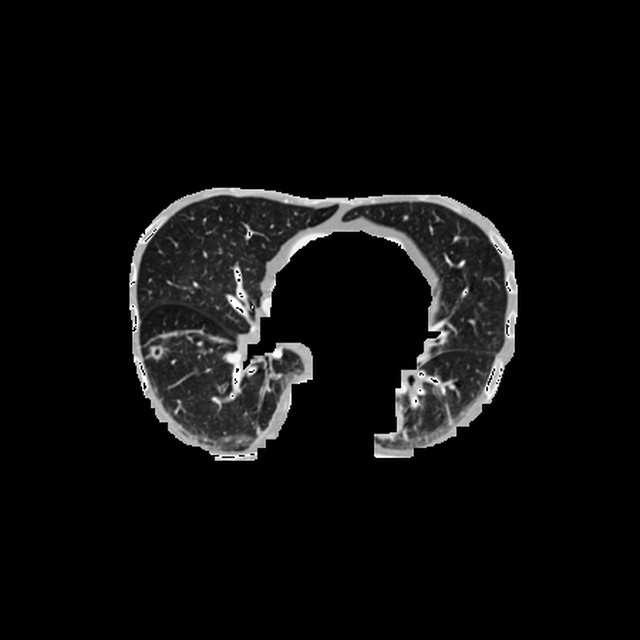PN: (148, 344, 162, 358)
